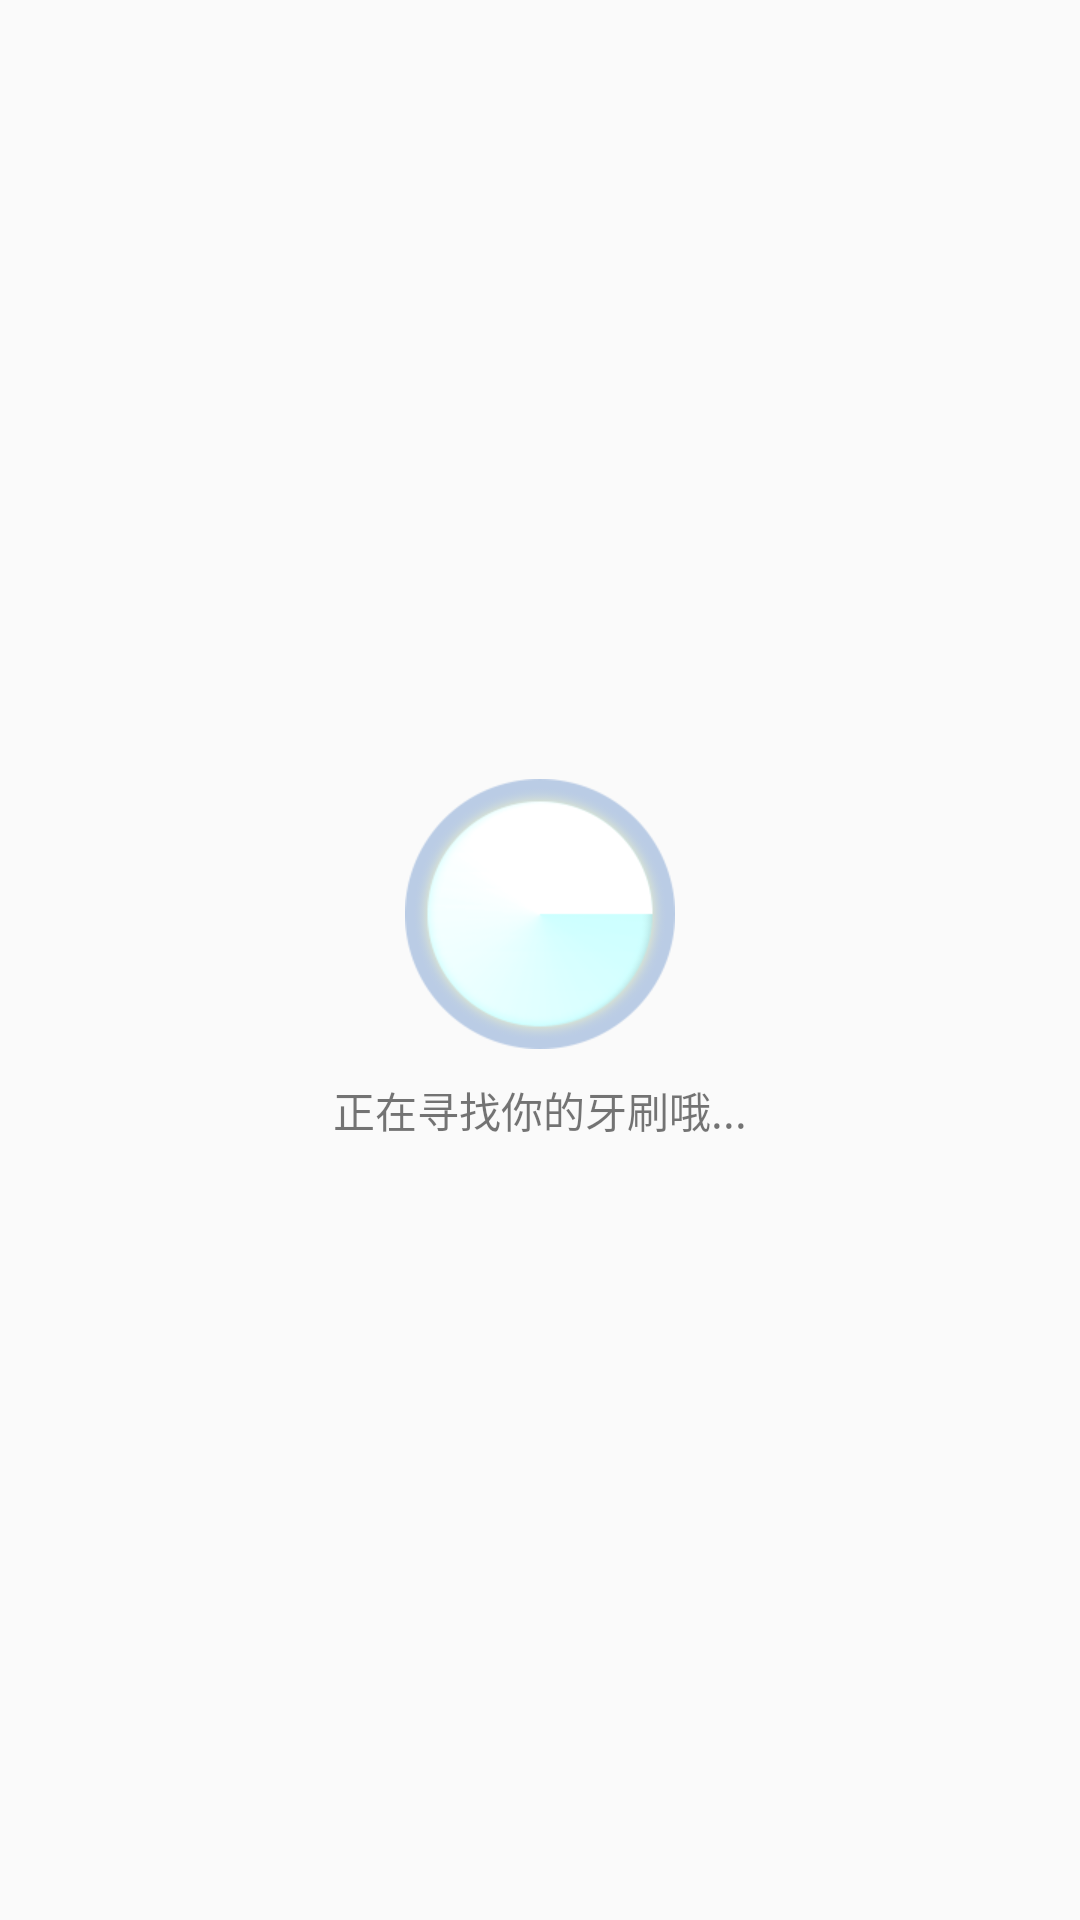

Icon click points for this 1080px×1920px phone screenshot, format (x,y):
radar: (540,914)
